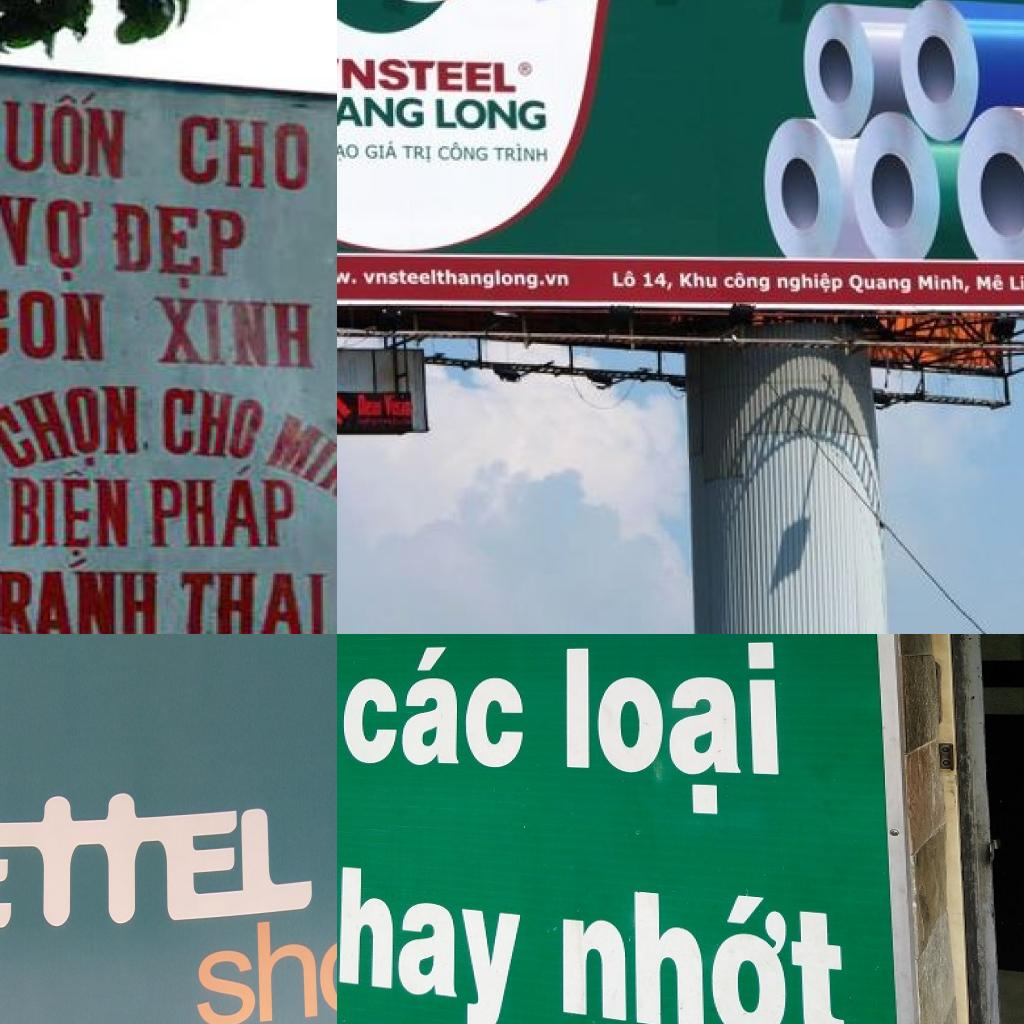text: (0, 790, 314, 948), (564, 640, 784, 821), (337, 862, 538, 1024), (342, 646, 526, 770), (191, 904, 337, 1024), (0, 374, 141, 473), (150, 458, 296, 550), (0, 79, 127, 181), (109, 201, 248, 294), (0, 556, 164, 634), (155, 296, 316, 368), (177, 112, 312, 193), (9, 470, 134, 556), (261, 387, 337, 522), (159, 384, 271, 466), (0, 195, 100, 286), (0, 287, 109, 362), (337, 53, 524, 95), (337, 265, 572, 291), (433, 95, 549, 135), (337, 91, 427, 131), (774, 270, 847, 298), (843, 270, 916, 296), (437, 139, 491, 166), (914, 271, 974, 295), (491, 143, 551, 166), (722, 270, 774, 295), (364, 135, 404, 164), (672, 270, 722, 293), (640, 268, 680, 295), (972, 270, 1009, 295), (398, 143, 435, 166), (609, 266, 640, 293), (1004, 269, 1024, 295), (337, 142, 362, 162)
